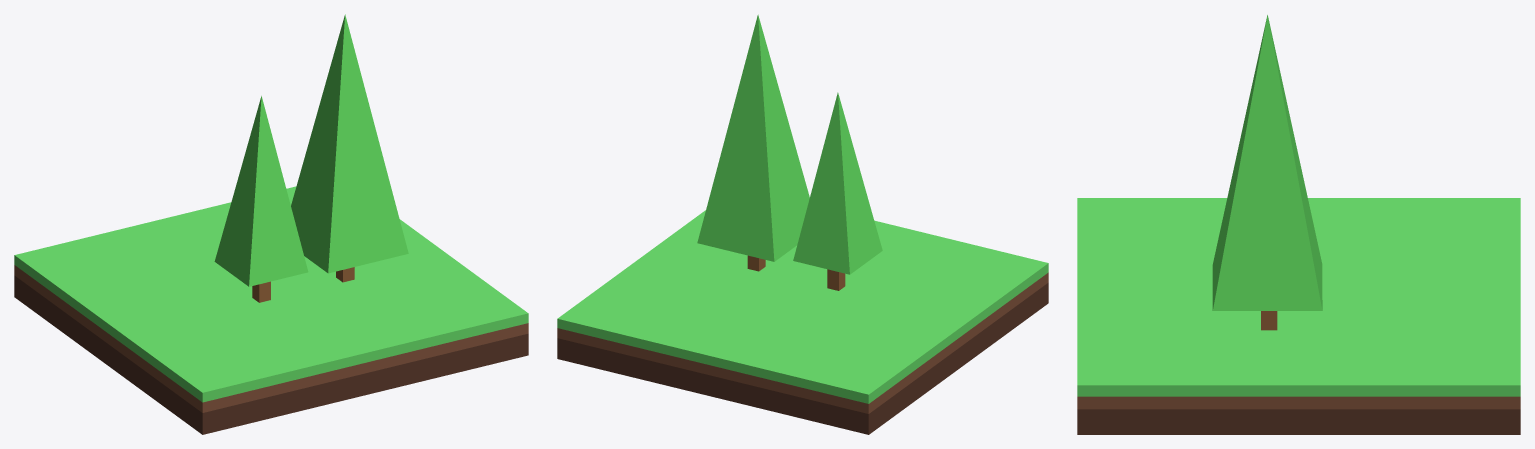
The model's file is tile.gltf.
3 renders of one model, left to right at view 1: azimuth 30°, elevation 25°; view 2: azimuth 150°, elevation 25°; view 3: azimuth 270°, elevation 25°, orthographic. The views are drawn at different scales.
Visible parts, largest first — view 1: Tree Tile, Cone.007, Cone.008; view 2: Tree Tile, Cone.007, Cone.008; view 3: Tree Tile, Cone.007.
Part boxes in pixels (bbox=[...]): Tree Tile: bbox=[14, 186, 528, 434]; Cone.007: bbox=[291, 14, 408, 273]; Cone.008: bbox=[214, 96, 308, 286]; Tree Tile: bbox=[557, 210, 1048, 434]; Cone.007: bbox=[697, 14, 809, 261]; Cone.008: bbox=[793, 92, 882, 274]; Tree Tile: bbox=[1077, 198, 1520, 434]; Cone.007: bbox=[1212, 15, 1322, 310].
Bounding box in the file's own units: 4 × 3.61 × 4.
